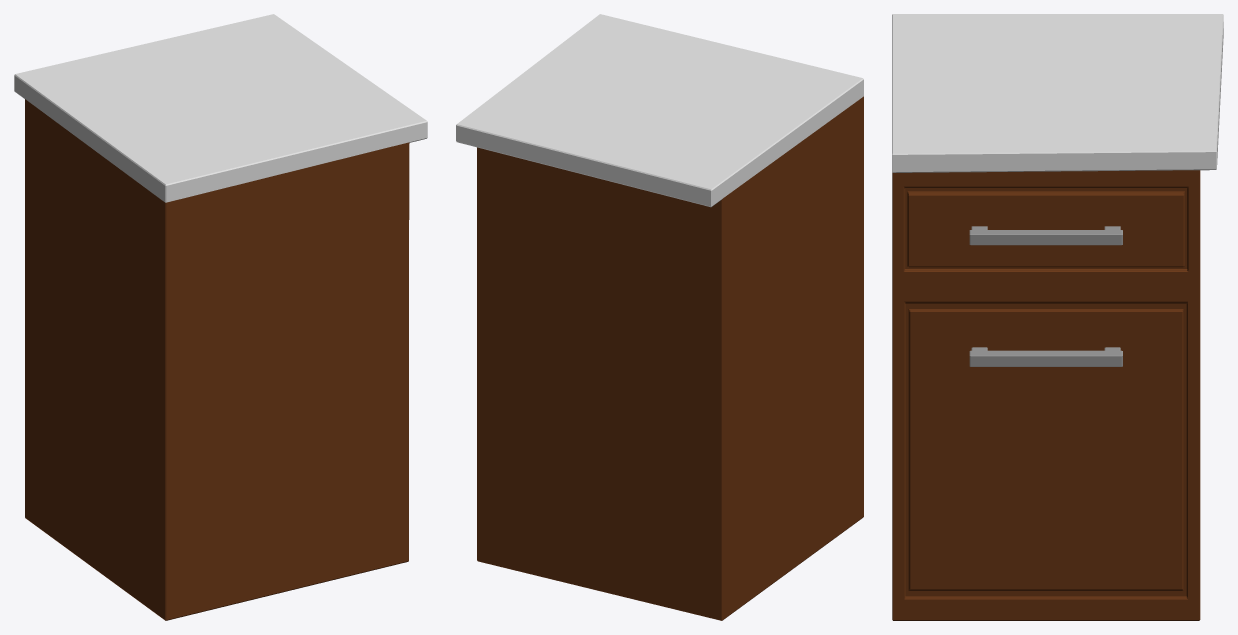
The model's file is CornerCabinet4.fbx.
3 views of the same model, side by side, from view 1: azimuth 30°, elevation 25°; view 2: azimuth 150°, elevation 25°; view 3: azimuth 270°, elevation 25° (orthographic). The views are drawn at different scales.
Visible parts, largest first — view 1: Fridge.005; view 2: Fridge.005; view 3: Fridge.005.
Boxes of the visible parts, x1=… form: Fridge.005: x1=14, y1=14, x2=427, y2=620; Fridge.005: x1=456, y1=14, x2=863, y2=620; Fridge.005: x1=892, y1=14, x2=1223, y2=620.
Size of the model in its own units: 151 by 242 by 151.
